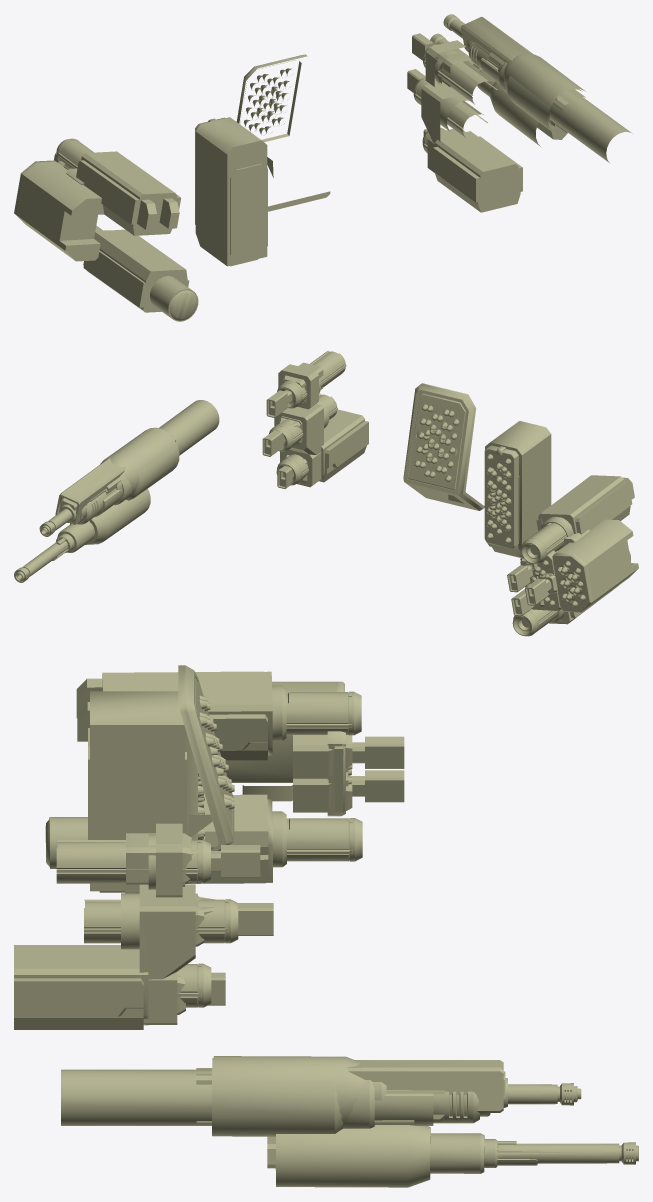
Rendered from HighlanderWeapons.glb.
The picture shows the model from 3 angles, top to bottom: view 1: azimuth 30°, elevation 25°; view 2: azimuth 150°, elevation 25°; view 3: azimuth 270°, elevation 25°; orthographic projection. The views are drawn at different scales.
Visible parts, largest first — view 1: Torso_Left_MH2_Missile10, Forearm_Left_EH1_PPC, Forearm_Left_EH2_PPC, Forearm_Left_MH1_Missile15, Torso_Right_EH3_Laser, Torso_Left_MH2_Missile2, Forearm_Right_EH1_PPC, Forearm_Right_BH1_AC10, Forearm_Right_BH1_AC20, Forearm_Right_EH1_Laser, Torso_Left_MH2_Missile4, Torso_Right_EH3_Flamer (+13 smaller); view 2: Forearm_Left_EH1_PPC, Forearm_Left_MH1_Missile15, Torso_Left_MH2_Missile10, Torso_Left_MH1_Missile10, Torso_Left_MH2_Missile15, Torso_Left_MH2_Missile20, Torso_Right_EH3_Laser, Forearm_Right_BH1_AC10, Torso_Left_MH1_Missile20, Torso_Left_MH1_Missile5, Forearm_Right_BH1_AC20, Forearm_Right_EH1_PPC (+20 smaller); view 3: Torso_Left_MH2_Missile10, Forearm_Left_EH1_PPC, Forearm_Right_BH1_AC20, Forearm_Right_BH2_AC5, Forearm_Left_EH2_PPC, Forearm_Right_EH1_PPC, Torso_Right_EH3_Flamer, Forearm_Right_BH2_AC2, Torso_Right_EH3_Laser, Forearm_Right_EH1_Laser, Torso_Right_EH2_Flamer, Forearm_Right_BH1_AC10 (+20 smaller).
Boxes of the visible parts, x1,y1,x2,y2 form: Torso_Left_MH2_Missile10: [195, 117, 267, 266]; Forearm_Left_EH1_PPC: [56, 138, 180, 235]; Forearm_Left_EH2_PPC: [83, 225, 198, 321]; Forearm_Left_MH1_Missile15: [14, 162, 103, 261]; Torso_Right_EH3_Laser: [427, 129, 522, 206]; Torso_Left_MH2_Missile2: [230, 164, 267, 255]; Forearm_Right_EH1_PPC: [549, 90, 632, 162]; Forearm_Right_BH1_AC10: [467, 39, 582, 128]; Forearm_Right_BH1_AC20: [468, 41, 585, 132]; Forearm_Right_EH1_Laser: [461, 16, 577, 99]; Torso_Left_MH2_Missile4: [230, 163, 267, 254]; Torso_Right_EH3_Flamer: [423, 129, 522, 212]; Forearm_Left_EH1_PPC: [521, 475, 634, 563]; Forearm_Left_MH1_Missile15: [535, 519, 638, 612]; Torso_Left_MH2_Missile10: [484, 421, 551, 557]; Torso_Left_MH1_Missile10: [404, 384, 484, 510]; Torso_Left_MH2_Missile15: [484, 428, 551, 548]; Torso_Left_MH2_Missile20: [485, 421, 544, 551]; Torso_Right_EH3_Laser: [280, 409, 368, 487]; Forearm_Right_BH1_AC10: [59, 427, 176, 522]; Torso_Left_MH1_Missile20: [412, 391, 465, 481]; Torso_Left_MH1_Missile5: [403, 385, 480, 510]; Forearm_Right_BH1_AC20: [76, 431, 179, 524]; Forearm_Right_EH1_PPC: [158, 400, 219, 455]; Torso_Left_MH2_Missile10: [90, 691, 197, 892]; Forearm_Left_EH1_PPC: [76, 671, 361, 760]; Forearm_Right_BH1_AC20: [212, 1058, 490, 1136]; Forearm_Right_BH2_AC5: [275, 1127, 638, 1187]; Forearm_Left_EH2_PPC: [45, 794, 362, 883]; Forearm_Right_EH1_PPC: [61, 1069, 211, 1125]; Torso_Right_EH3_Flamer: [14, 972, 225, 1029]; Forearm_Right_BH2_AC2: [275, 1125, 621, 1161]; Torso_Right_EH3_Laser: [14, 945, 185, 1024]; Forearm_Right_EH1_Laser: [218, 1060, 505, 1121]; Torso_Right_EH2_Flamer: [139, 893, 273, 979]; Forearm_Right_BH1_AC10: [213, 1056, 507, 1122].
Bounding box in the file's own units: 1.83 × 0.6431 × 1.23.
